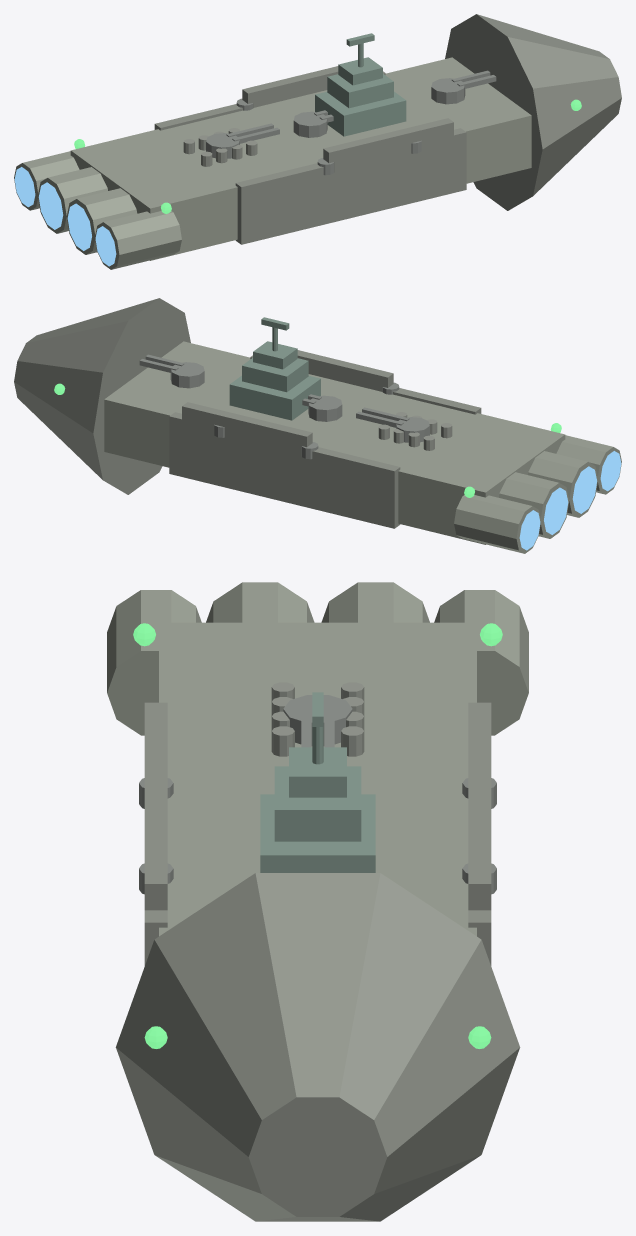
Rendered from military_cruiser.glb.
3 renders of one model, top to bottom at view 1: azimuth 30°, elevation 25°; view 2: azimuth 150°, elevation 25°; view 3: azimuth 270°, elevation 25°, orthographic. The views are drawn at different scales.
Visible parts, largest first — view 1: Hull, Prow, BeltArmor-1, Eng-0.28, UpperArmor-1, Tower1, Eng-0.1, Eng0.1, UpperArmor1, Tower2, Eng0.28, BeltArmor1 (+8 smaller); view 2: Hull, Prow, BeltArmor1, Eng0.28, UpperArmor1, Tower1, UpperArmor-1, Eng0.1, Eng-0.1, Tower2, Eng-0.28, BeltArmor-1 (+8 smaller); view 3: Prow, Hull, Eng-0.28, Eng0.28, Tower1, Tower2, UpperArmor-1, UpperArmor1, Eng-0.1, Eng0.1, Tower3, BeltArmor-1 (+2 smaller).
Part boxes in pixels (x1,y1,x2,y2): Hull: (70, 57, 531, 260); Prow: (445, 14, 621, 210); BeltArmor-1: (235, 128, 466, 244); Eng-0.28: (95, 211, 181, 269); UpperArmor-1: (323, 118, 453, 172); Tower1: (315, 91, 406, 136); Eng-0.1: (66, 188, 137, 254); Eng0.1: (38, 167, 107, 233); UpperArmor1: (242, 66, 338, 105); Tower2: (327, 74, 393, 108); Eng0.28: (14, 151, 79, 210); BeltArmor1: (154, 71, 385, 130); Hull: (104, 341, 565, 544); Prow: (14, 298, 190, 494); BeltArmor1: (169, 412, 400, 528); Eng0.28: (454, 495, 540, 553); UpperArmor1: (182, 402, 312, 455); Tower1: (229, 375, 320, 420); UpperArmor-1: (297, 350, 393, 391); Eng0.1: (498, 472, 569, 538); Eng-0.1: (528, 451, 597, 517); Tower2: (242, 358, 308, 392); Eng-0.28: (556, 435, 621, 494); BeltArmor-1: (250, 355, 481, 414); Prow: (115, 873, 520, 1221); Hull: (159, 622, 476, 936); Eng-0.28: (107, 590, 201, 735); Eng0.28: (434, 590, 528, 735); Tower1: (260, 794, 375, 872); Tower2: (274, 766, 361, 841); UpperArmor-1: (144, 762, 167, 910); UpperArmor1: (468, 762, 491, 910); Eng-0.1: (206, 582, 314, 622); Eng0.1: (321, 582, 429, 622); Tower3: (289, 747, 346, 797); BeltArmor-1: (144, 702, 167, 965).
Bounding box in the file's own units: 2.16 × 0.7429 × 0.73.
